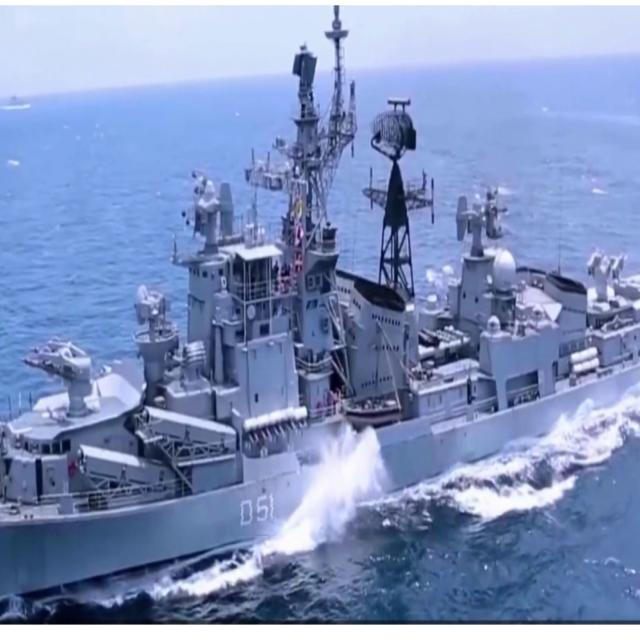OCR: (224, 484, 274, 536)
